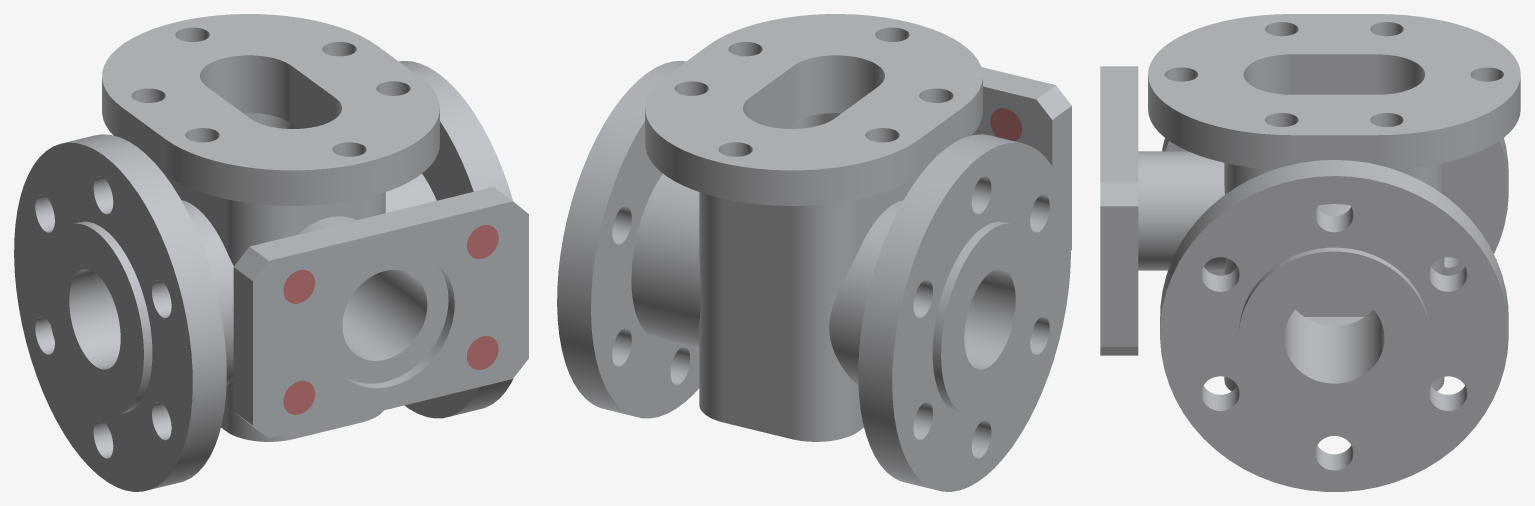
Rendered from step_17.glb.
3 renders of one model, left to right at view 1: azimuth 30°, elevation 25°; view 2: azimuth 150°, elevation 25°; view 3: azimuth 270°, elevation 25°, orthographic. The views are drawn at different scales.
Parts seen in each view (by area): view 1: part__valve body, removed__valve body; view 2: part__valve body, removed__valve body; view 3: part__valve body.
Boxes of the visible parts, x1,y1,x2,y2 form: part__valve body: [14, 14, 528, 491]; removed__valve body: [283, 225, 498, 414]; part__valve body: [557, 14, 1071, 491]; removed__valve body: [990, 108, 1021, 141]; part__valve body: [1100, 14, 1520, 491].
Bounding box in the file's own units: 166 × 156 × 176.
